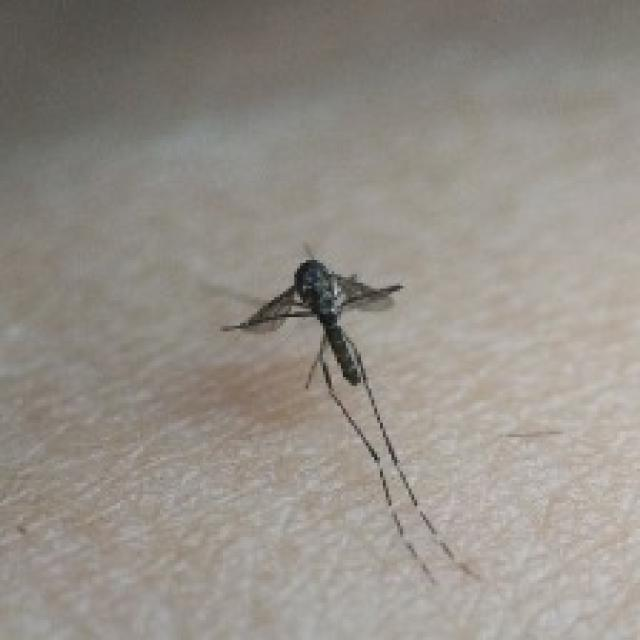aedes: (217, 240, 480, 586)
